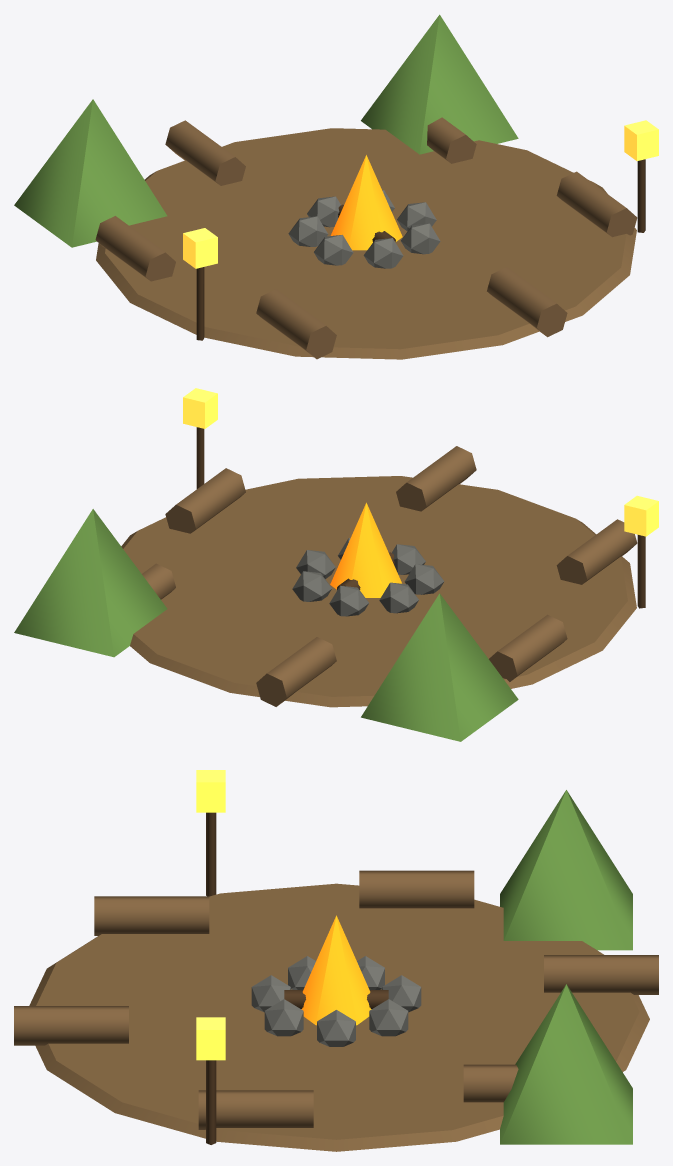
File: level2.glb
3 views of the same model, one above another, from view 1: azimuth 30°, elevation 25°; view 2: azimuth 150°, elevation 25°; view 3: azimuth 270°, elevation 25° (orthographic). The views are drawn at different scales.
Parts seen in each view (by area): view 1: object 1, object 19, object 20, flame, object 15, object 14, object 13, object 17, object 16, object 18, object 24, object 22 (+8 smaller); view 2: object 1, object 19, object 20, flame, object 17, object 14, object 13, object 15, object 16, object 22, object 24, object 7 (+8 smaller); view 3: object 1, object 20, object 19, object 16, object 14, object 15, flame, object 17, object 13, object 18, object 24, object 22 (+9 smaller).
Boxes of the visible parts, left/top/right/bottom form: object 1: left=96, top=128, right=636, bottom=359; object 19: left=14, top=99, right=167, bottom=247; object 20: left=361, top=14, right=518, bottom=154; flame: left=330, top=155, right=402, bottom=250; object 15: left=256, top=289, right=336, bottom=359; object 14: left=487, top=267, right=567, bottom=337; object 13: left=556, top=171, right=637, bottom=237; object 17: left=165, top=120, right=245, bottom=185; object 16: left=95, top=216, right=175, bottom=281; object 18: left=427, top=117, right=476, bottom=163; object 24: left=624, top=120, right=658, bottom=160; object 22: left=183, top=228, right=217, bottom=268; object 1: left=121, top=476, right=636, bottom=707; object 19: left=361, top=593, right=518, bottom=741; object 20: left=14, top=509, right=167, bottom=657; flame: left=330, top=502, right=401, bottom=597; object 17: left=256, top=637, right=336, bottom=706; object 14: left=396, top=446, right=476, bottom=511; object 13: left=165, top=468, right=245, bottom=533; object 15: left=556, top=519, right=637, bottom=584; object 16: left=489, top=614, right=567, bottom=681; object 22: left=624, top=495, right=658, bottom=536; object 24: left=183, top=388, right=217, bottom=428; object 7: left=329, top=585, right=368, bottom=616; object 1: left=29, top=883, right=649, bottom=1151; object 20: left=500, top=984, right=632, bottom=1144; object 19: left=500, top=790, right=632, bottom=950; object 16: left=359, top=870, right=474, bottom=908; object 14: left=14, top=1006, right=128, bottom=1045; object 15: left=94, top=896, right=209, bottom=935; flame: left=301, top=915, right=371, bottom=1025; object 17: left=544, top=955, right=658, bottom=994; object 13: left=198, top=1090, right=313, bottom=1129; object 18: left=463, top=1064, right=518, bottom=1102; object 24: left=196, top=1017, right=225, bottom=1060; object 22: left=196, top=770, right=225, bottom=812.
Size of the model in its own units: 3.09 by 0.735 by 3.18.
